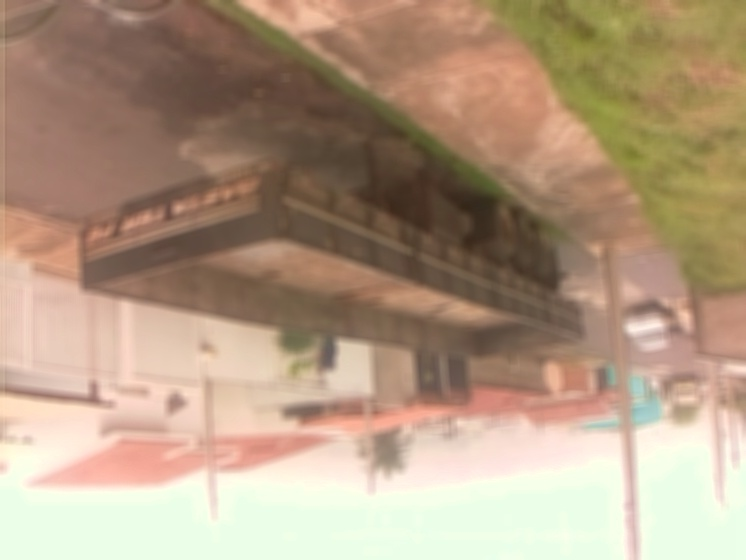person: (313, 338, 341, 377)
